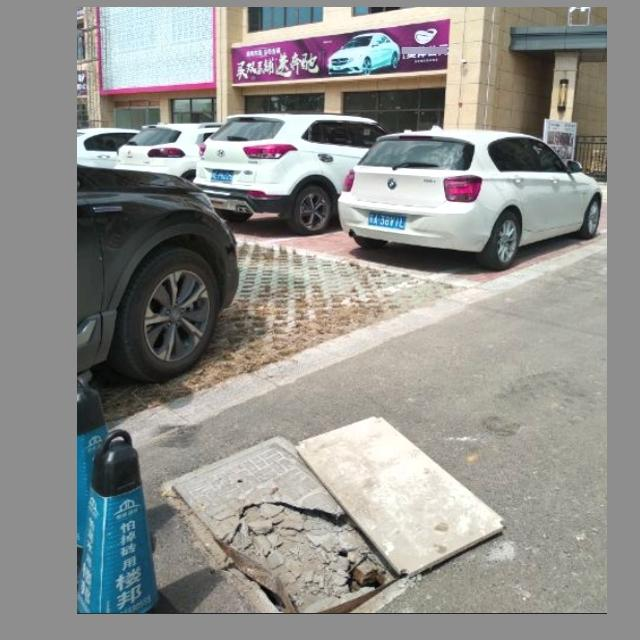broke: (165, 472, 434, 604)
